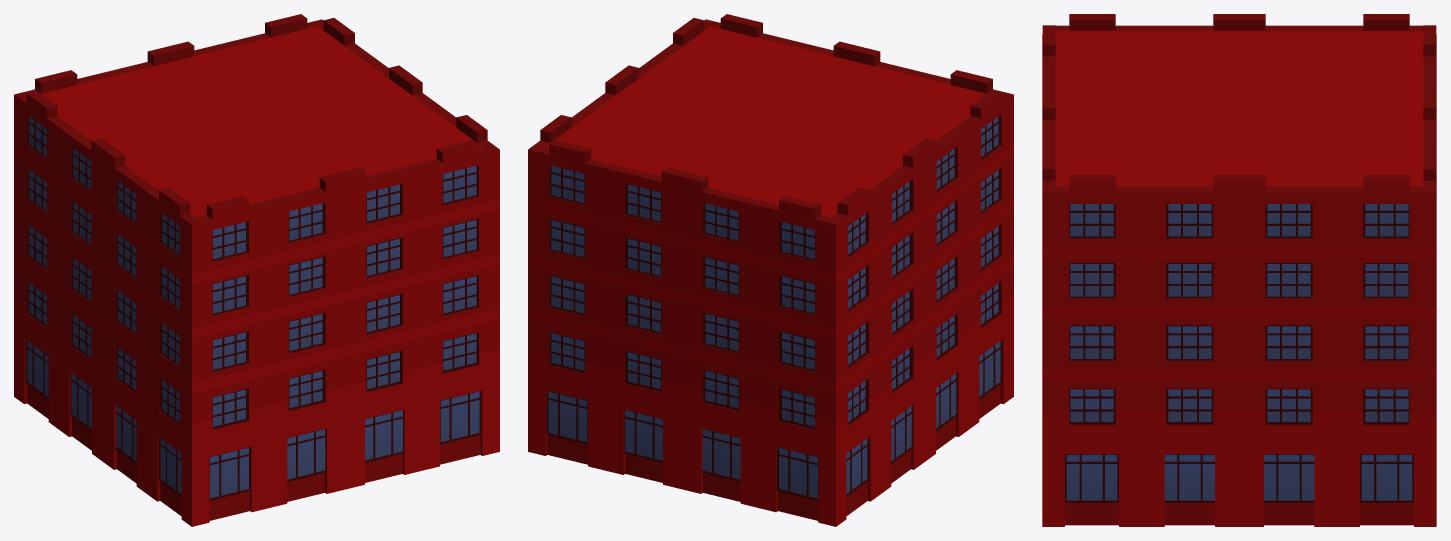
Rendered from buildings-residential-loft_v2.fbx.
The picture shows the model from 3 angles, left to right: view 1: azimuth 30°, elevation 25°; view 2: azimuth 150°, elevation 25°; view 3: azimuth 270°, elevation 25°; orthographic projection. The views are drawn at different scales.
Visible parts, largest first — view 1: Loft_v2_base, Loft_v2_windowRefl; view 2: Loft_v2_base, Loft_v2_windowRefl; view 3: Loft_v2_base, Loft_v2_windowRefl.
Boxes of the visible parts, left/top/right/bottom form: Loft_v2_base: left=14, top=14, right=499, bottom=526; Loft_v2_windowRefl: left=27, top=116, right=479, bottom=498; Loft_v2_base: left=528, top=14, right=1013, bottom=526; Loft_v2_windowRefl: left=548, top=116, right=1000, bottom=498; Loft_v2_base: left=1042, top=14, right=1436, bottom=526; Loft_v2_windowRefl: left=1066, top=204, right=1412, bottom=500.
Size of the model in its own units: 22.17 by 21.51 by 22.17.
